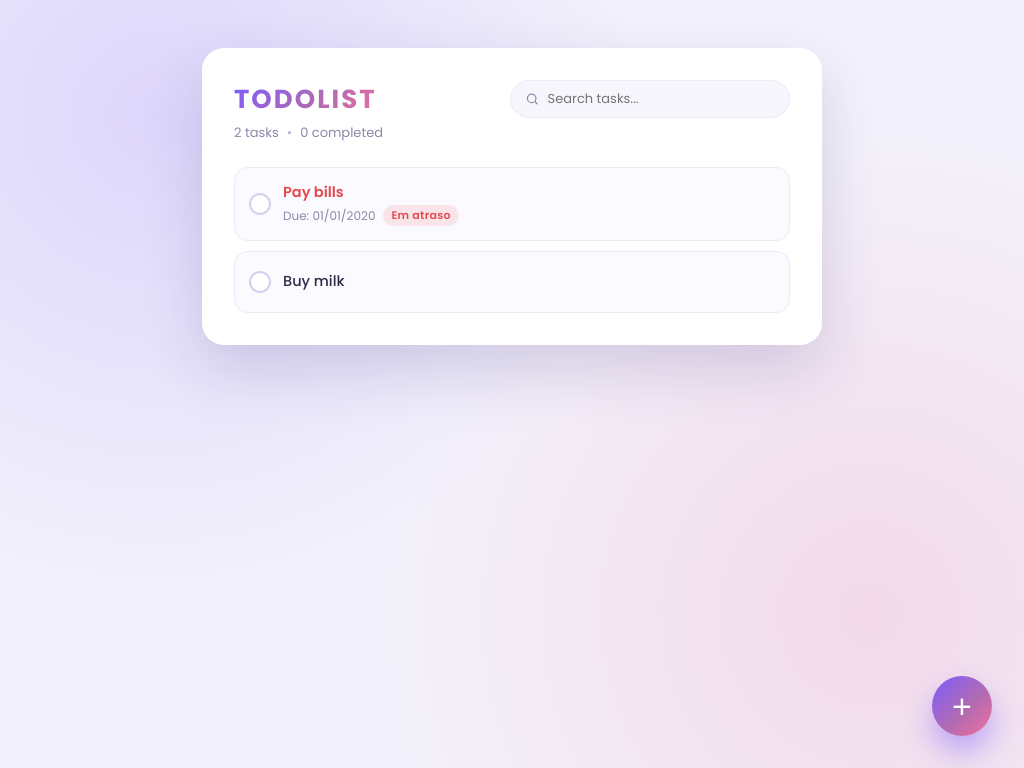
it: TODOLIST frontend › marca tarefa como concluída pelo checkbox e atualiza os contadores
Click the checkbox named "Concluir tarefa Buy milk" at x=260, y=282, box top-left (249, 271), bottom-right (271, 293)
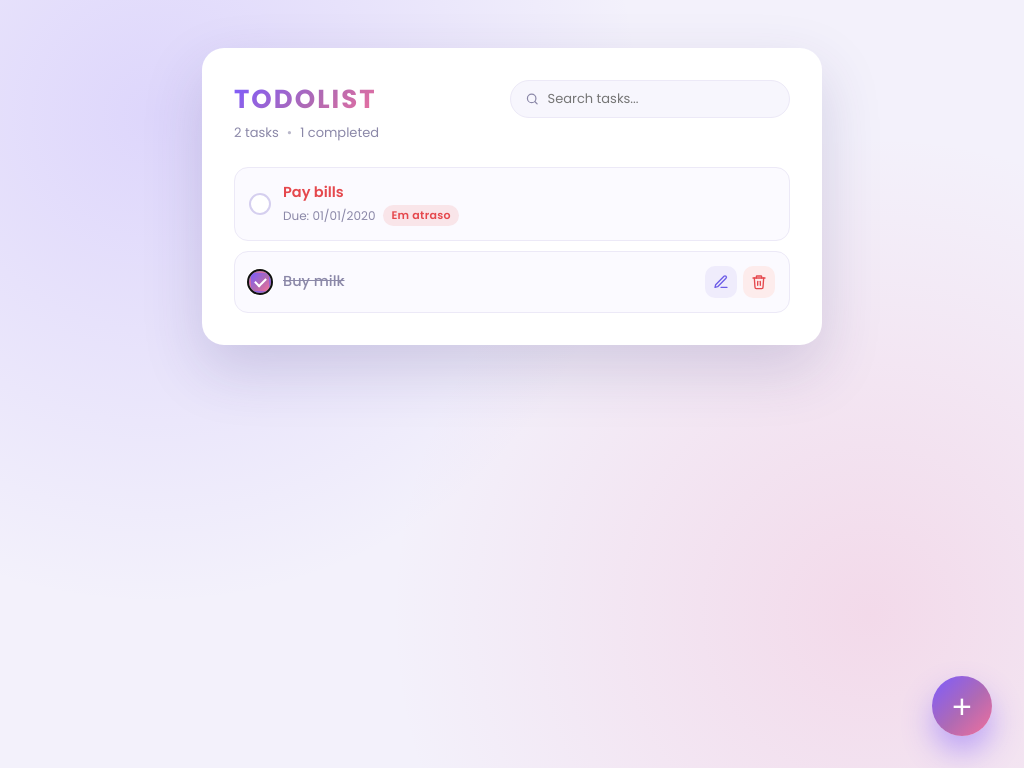
Check: the checkbox labelled "Buy milk" is checked, box top-left (249, 271), bottom-right (271, 293)
Check: the text "1 completed" is shown, box top-left (300, 123), bottom-right (379, 143)
